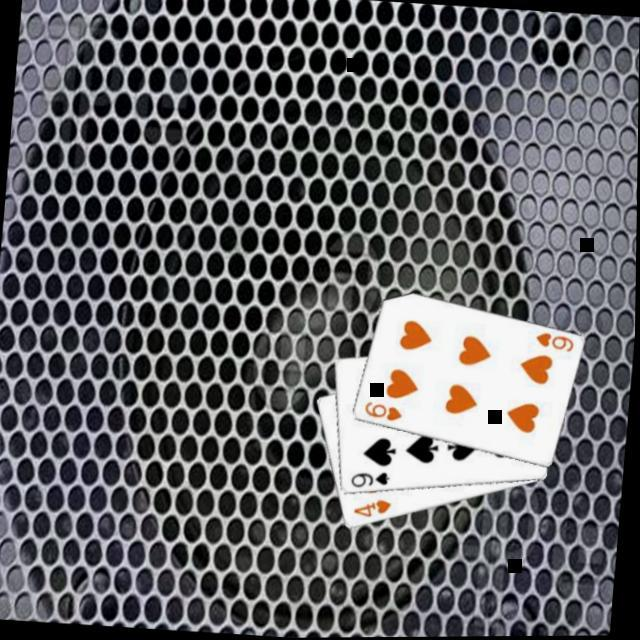4H: (349, 494, 394, 521)
6H: (530, 328, 576, 355), (360, 397, 405, 424)
9S: (347, 466, 392, 492)
